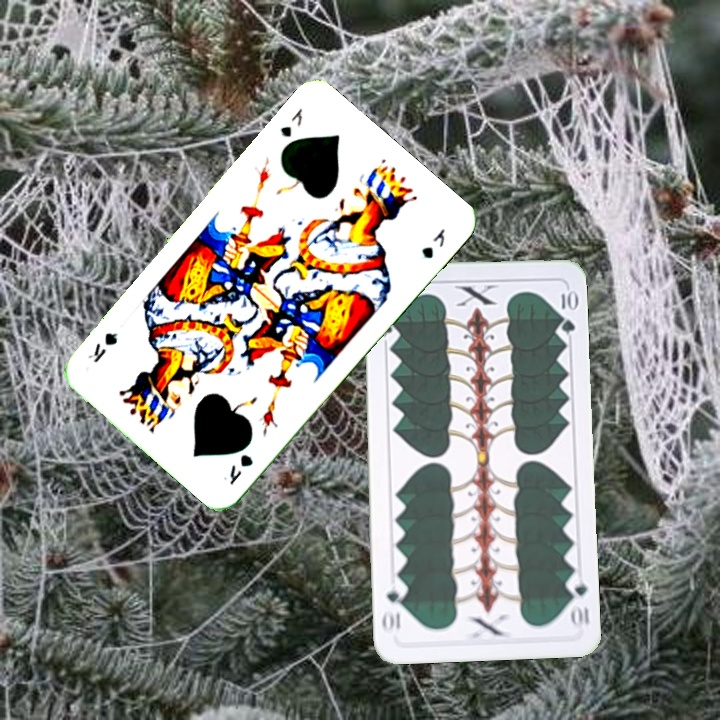G10: (563, 571, 592, 631)
GK: (225, 450, 256, 487), (276, 104, 306, 141)
